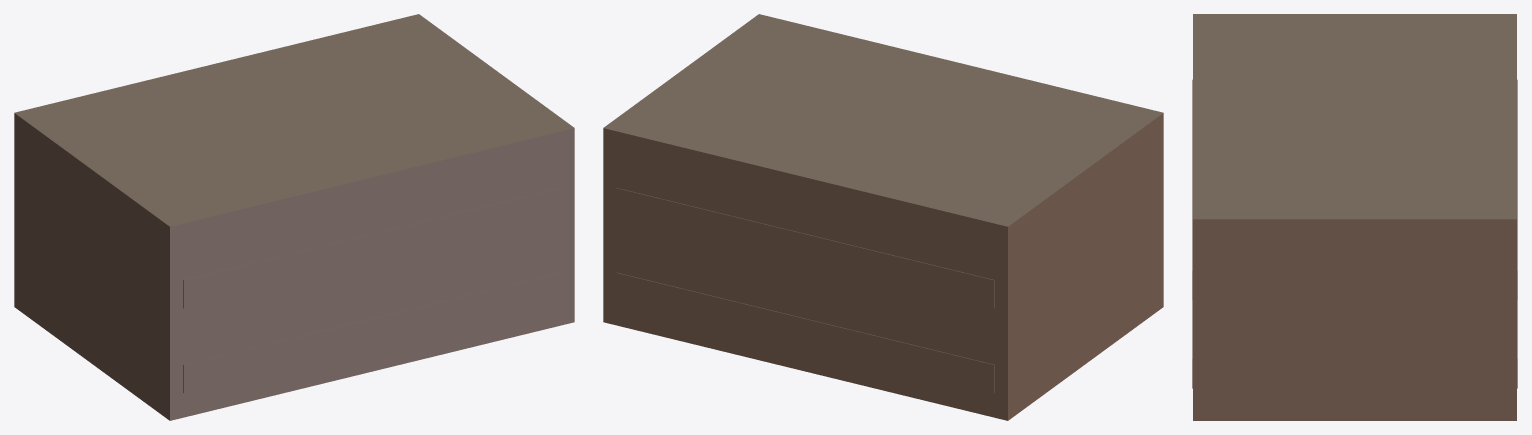
File: crash-station.far-facades-v3.lod2.glb
3 views of the same model, side by side, from view 1: azimuth 30°, elevation 25°; view 2: azimuth 150°, elevation 25°; view 3: azimuth 270°, elevation 25° (orthographic). The views are drawn at different scales.
Visible parts, largest first — view 1: crash-station; view 2: crash-station; view 3: crash-station.
Boxes of the visible parts, box(x1,y1,x2,y2) form: crash-station: box(14, 14, 574, 420); crash-station: box(603, 14, 1163, 420); crash-station: box(1192, 14, 1517, 420).
Size of the model in its own units: 18 by 8.25 by 12.06.
